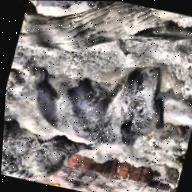boar: (9, 31, 192, 173)
